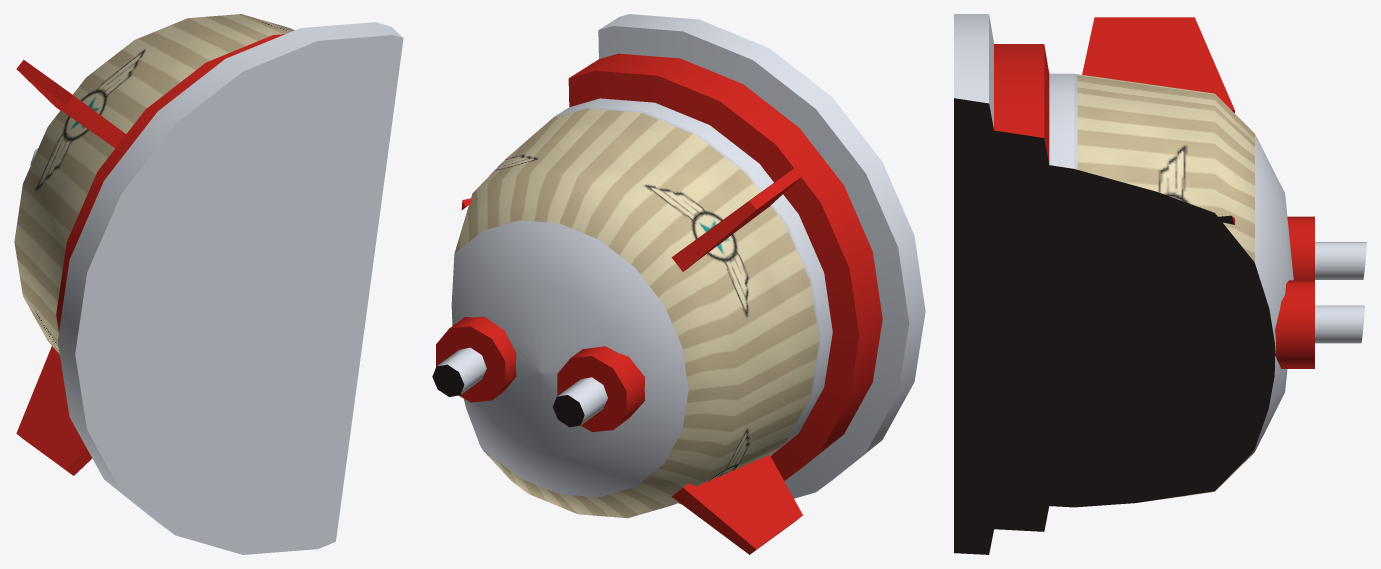
Rendered from guard_turret_debris2.obj.
3 renders of one model, left to right at view 1: azimuth 30°, elevation 25°; view 2: azimuth 150°, elevation 25°; view 3: azimuth 270°, elevation 25°, orthographic. The views are drawn at different scales.
Visible parts, largest first — view 1: base, fin225, fin315; view 2: base, mantlet, fin225, gun, fin315; view 3: base, fin315, mantlet, gun.
Boxes of the visible parts, box(x1,y1,x2,y2) form: base: box(14, 14, 403, 554); fin225: box(16, 346, 92, 475); fin315: box(16, 59, 126, 148); base: box(451, 14, 925, 518); mantlet: box(436, 316, 645, 431); fin225: box(671, 455, 802, 554); gun: box(432, 347, 607, 427); fin315: box(671, 167, 802, 271); base: box(954, 14, 1293, 554); fin315: box(1082, 17, 1234, 112); mantlet: box(1215, 216, 1314, 368); gun: box(1315, 242, 1366, 343).
Bounding box in the file's own units: 4.13 × 5.6 × 4.12.
4 materials, 1 textured.
